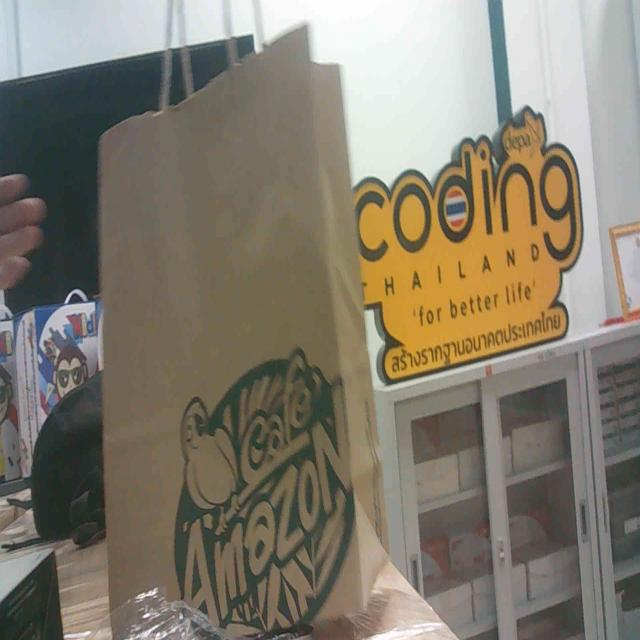bag: (96, 60, 396, 640)
